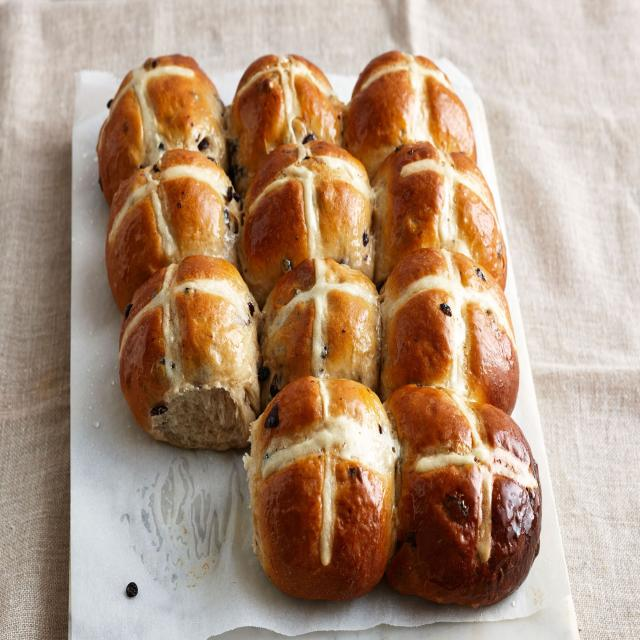Bun: (243, 370, 403, 608), (388, 389, 555, 616), (116, 248, 262, 458), (102, 143, 239, 330), (384, 237, 522, 414), (239, 128, 373, 304), (95, 45, 228, 205), (371, 144, 509, 296), (259, 253, 384, 405), (346, 45, 474, 174), (228, 46, 346, 178)
